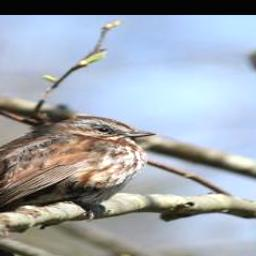Sparrow: (0, 114, 154, 256)
